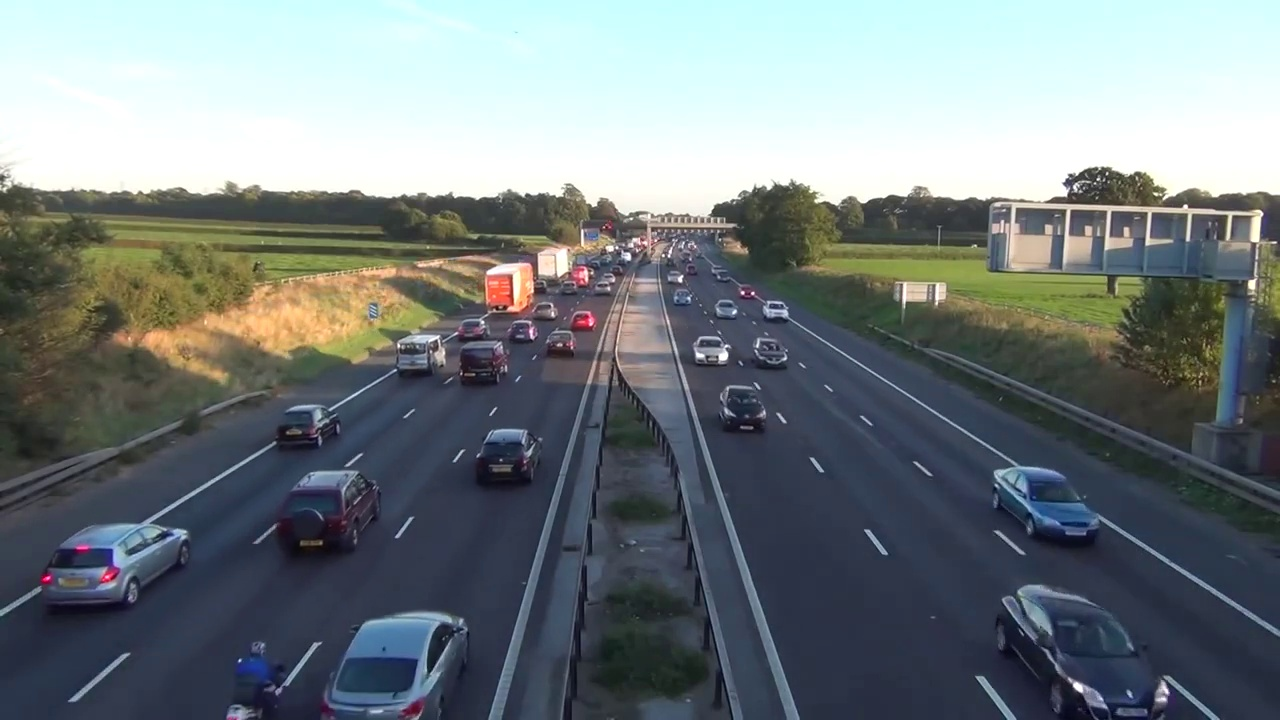bus: (996, 582, 1171, 716), (321, 608, 476, 718), (38, 516, 193, 605), (985, 465, 1104, 553), (276, 474, 387, 551), (472, 423, 547, 486), (275, 398, 345, 454), (706, 386, 775, 438), (682, 329, 741, 373), (748, 333, 796, 376), (545, 329, 577, 360), (456, 318, 492, 341), (507, 320, 539, 344), (759, 300, 791, 322), (569, 309, 599, 332), (714, 299, 740, 321), (533, 300, 558, 321), (670, 288, 693, 307), (736, 283, 756, 300), (559, 280, 579, 294), (594, 280, 611, 295), (716, 268, 732, 283), (668, 270, 682, 285), (600, 272, 617, 284), (534, 280, 546, 292), (665, 258, 677, 269), (710, 265, 723, 275), (610, 264, 622, 274), (586, 268, 597, 278), (687, 265, 697, 276), (590, 259, 600, 269)
car: (483, 263, 536, 314), (537, 247, 570, 286)
jeep: (224, 637, 293, 718)
lorry: (391, 332, 447, 378), (457, 340, 511, 384), (568, 260, 575, 273)
minibus: (571, 266, 589, 287)
